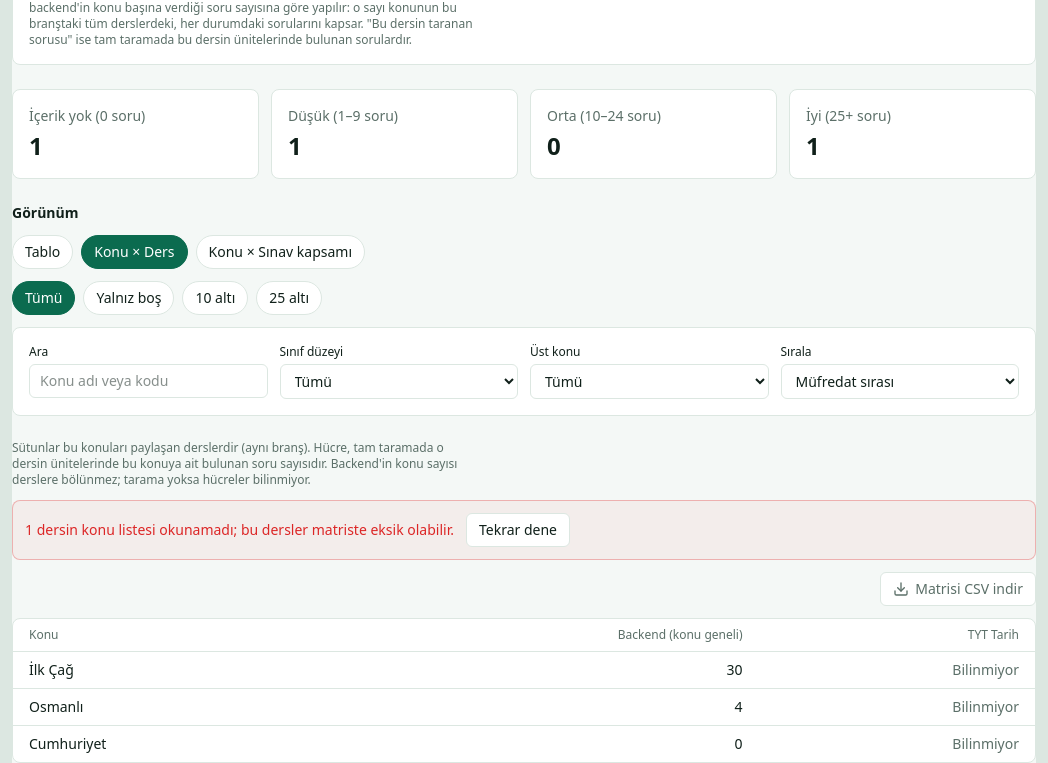
Test: CoverageCenter matrices › reports courses whose topic lists failed in the course matrix
The width and height of the screenshot is (1048, 763).
(page scrolled)
Check: the text "1 dersin konu listesi okunamadı; bu dersler matriste eksik olabilir." is shown, box 25,520 -> 454,540
Click the button "Tekrar dene": (518, 530) 466,513 -> 570,547
(page scrolled)
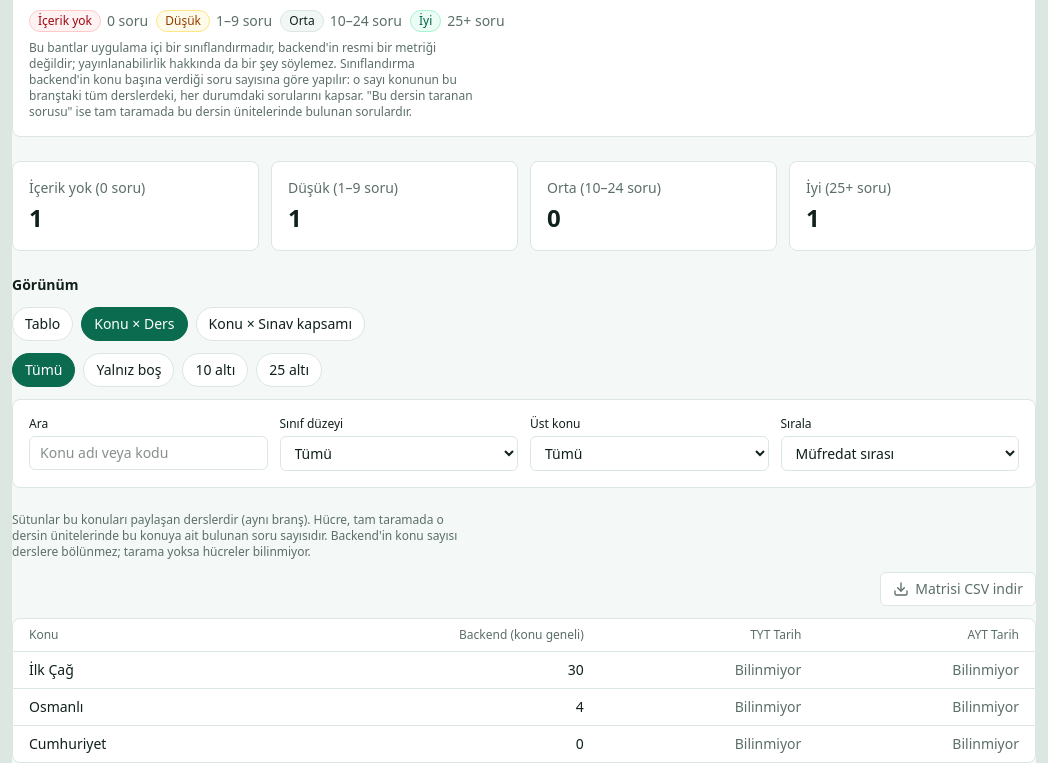
Check: the text "1 dersin konu listesi okunamadı; bu dersler matriste eksik olabilir." is gone
